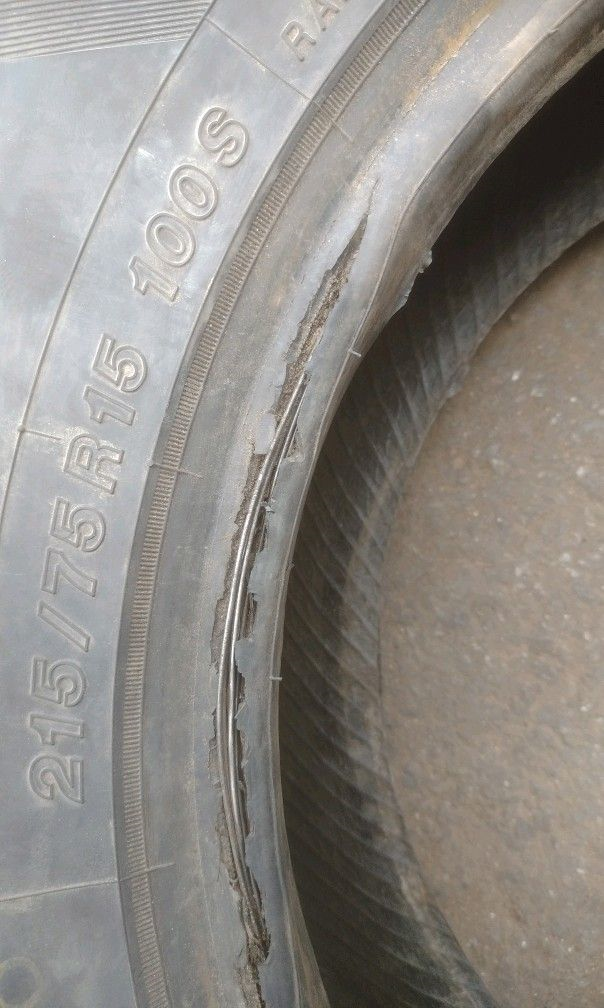bead_damage: (188, 158, 462, 1003)
